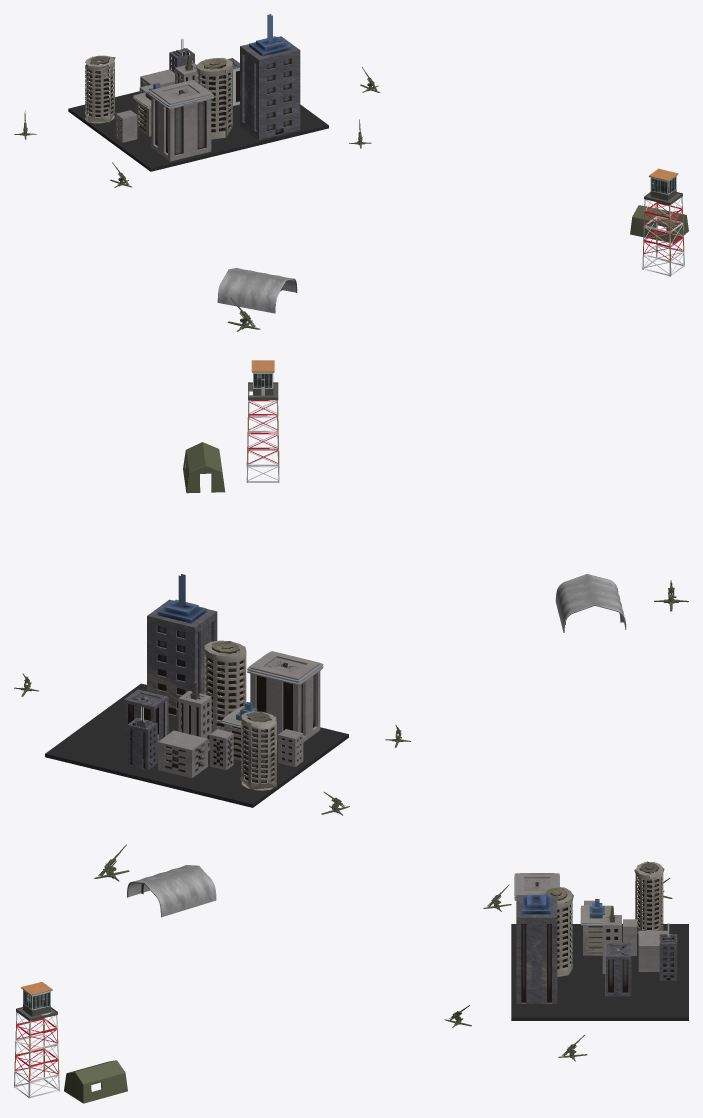
File: Berlin.glb
The picture shows the model from 3 angles, top to bottom: view 1: azimuth 30°, elevation 25°; view 2: azimuth 150°, elevation 25°; view 3: azimuth 270°, elevation 25°; orthographic projection. The views are drawn at different scales.
Parts seen in each view (by area): view 1: Cube.008__0.001, defaultMaterial.263, clothBuilding001_Material #67_0, Box001_Main Tent_0; view 2: Cube.008__0.001, defaultMaterial.263, clothBuilding001_Material #67_0, Box001_Main Tent_0; view 3: Cube.008__0.001, defaultMaterial.263, clothBuilding001_Material #67_0, Box001_Main Tent_0.
Part boxes in pixels (left/top/right/bottom): Cube.008__0.001: left=68, top=14, right=328, bottom=171; defaultMaterial.263: left=642, top=168, right=684, bottom=276; clothBuilding001_Material #67_0: left=217, top=268, right=297, bottom=313; Box001_Main Tent_0: left=630, top=205, right=688, bottom=243; Cube.008__0.001: left=45, top=574, right=348, bottom=807; defaultMaterial.263: left=246, top=360, right=279, bottom=482; clothBuilding001_Material #67_0: left=555, top=574, right=626, bottom=632; Box001_Main Tent_0: left=183, top=442, right=225, bottom=493; Cube.008__0.001: left=511, top=861, right=688, bottom=1020; defaultMaterial.263: left=14, top=982, right=59, bottom=1098; clothBuilding001_Material #67_0: left=127, top=865, right=216, bottom=917; Box001_Main Tent_0: left=64, top=1060, right=127, bottom=1103.
Bounding box in the file's own units: 206 × 54.75 × 252.
Materials: 19 (6 with a texture image).
